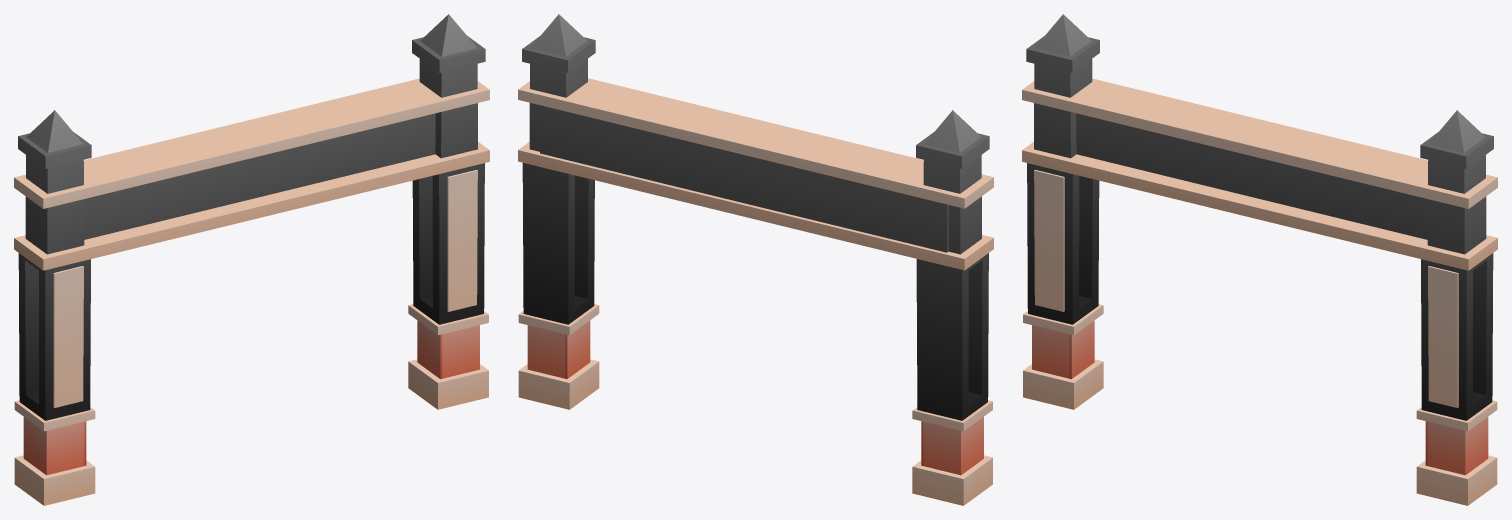
The model's file is Gapura.fbx.
3 views of the same model, side by side, from view 1: azimuth 30°, elevation 25°; view 2: azimuth 150°, elevation 25°; view 3: azimuth 330°, elevation 25° (orthographic).
Parts seen in each view (by area): view 1: GapuraBody_LOD0; view 2: GapuraBody_LOD0; view 3: GapuraBody_LOD0.
Part boxes in pixels (box(x1,y1,x2,y2)): GapuraBody_LOD0: box(14, 14, 489, 505); GapuraBody_LOD0: box(518, 14, 993, 505); GapuraBody_LOD0: box(1022, 14, 1497, 505).
Size of what is drawn, in the model's own units: 954 by 773 by 109.
